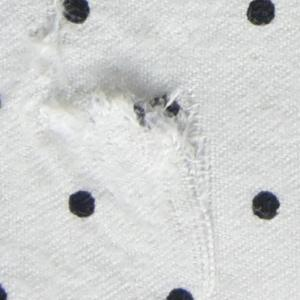Damage: (45, 70, 227, 289), (25, 1, 76, 54)
